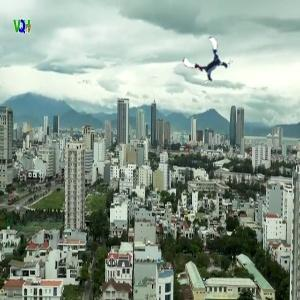drone: (187, 41, 230, 84)
